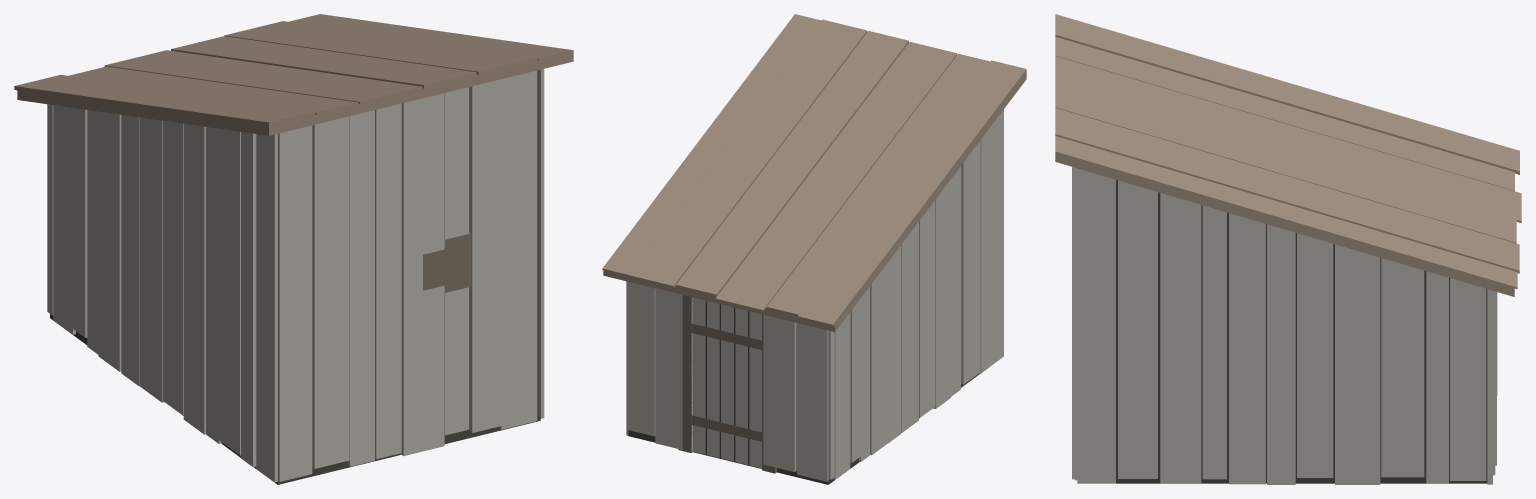
File: recon_1835_north_a4_052__inferred_1835.glb
The picture shows the model from 3 angles, left to right: view 1: azimuth 30°, elevation 25°; view 2: azimuth 150°, elevation 25°; view 3: azimuth 270°, elevation 25°; orthographic projection. The views are drawn at different scales.
Parts seen in each view (by area): view 1: recon_1835_north_a4_052__inferred_1835; view 2: recon_1835_north_a4_052__inferred_1835; view 3: recon_1835_north_a4_052__inferred_1835.
Boxes of the visible parts, box(x1,y1,x2,y2) form: recon_1835_north_a4_052__inferred_1835: box(14, 14, 573, 484); recon_1835_north_a4_052__inferred_1835: box(602, 14, 1026, 484); recon_1835_north_a4_052__inferred_1835: box(1055, 14, 1521, 484).
Bounding box in the file's own units: 2.82 × 3.34 × 4.11.
